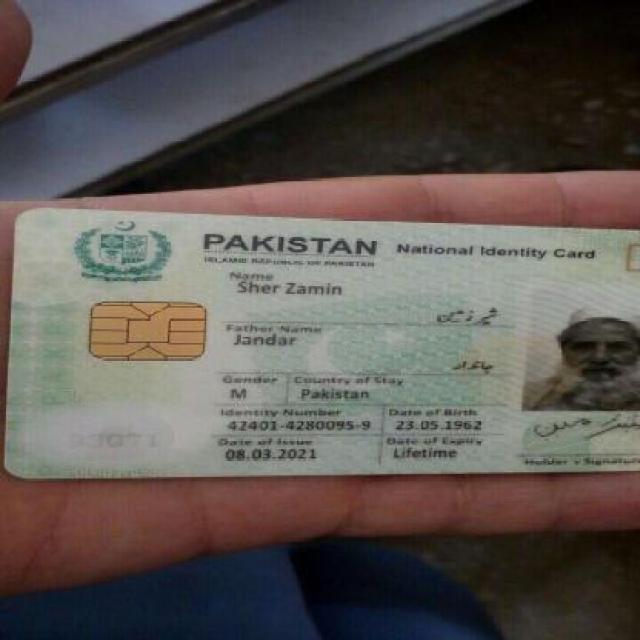Front: (6, 203, 639, 477)
